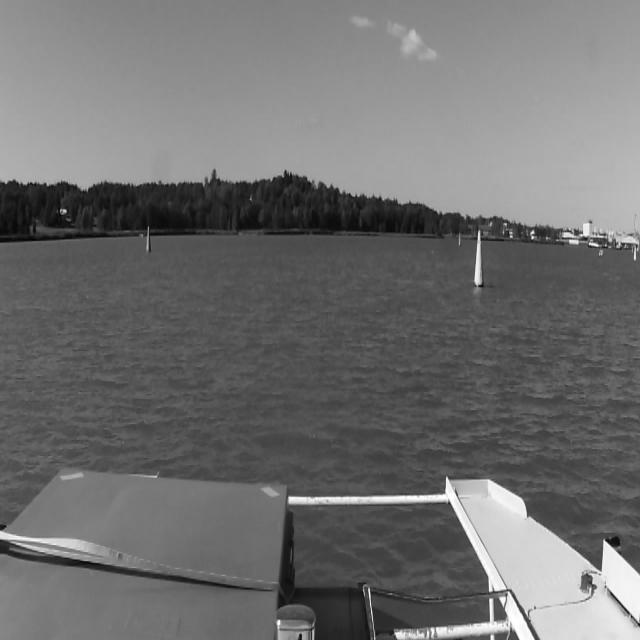buoy: (471, 224, 486, 293), (145, 225, 151, 254), (633, 244, 637, 262), (458, 231, 462, 248), (632, 244, 634, 253)
ship: (597, 248, 605, 258)
